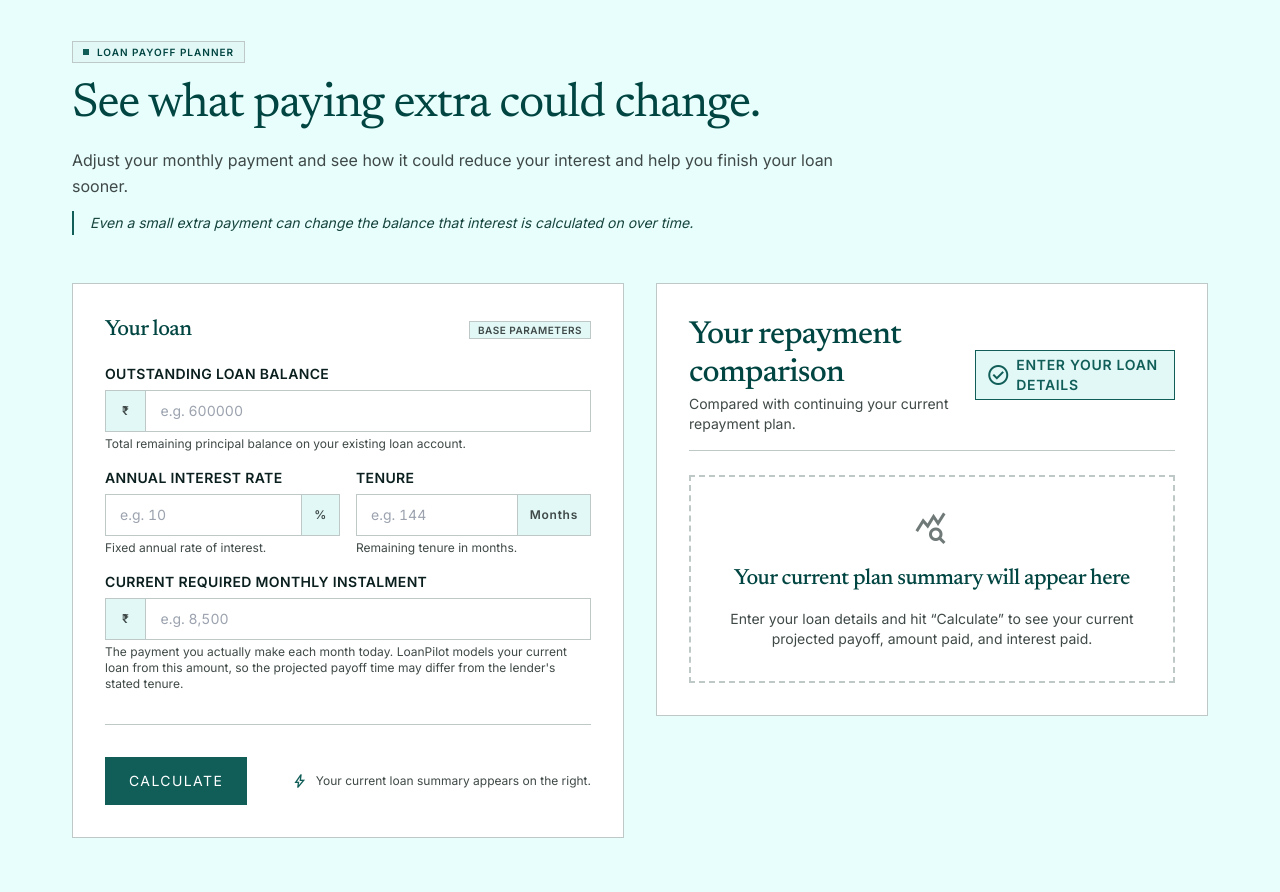
Scenario: Calculator two-stage flow › calculates the baseline first, then reveals an unstained planner
This screenshot has width=1280, height=892.
Type "8000" into the field labelled "Current required monthly instalment". click: (368, 619)
box: [146, 599, 590, 639]
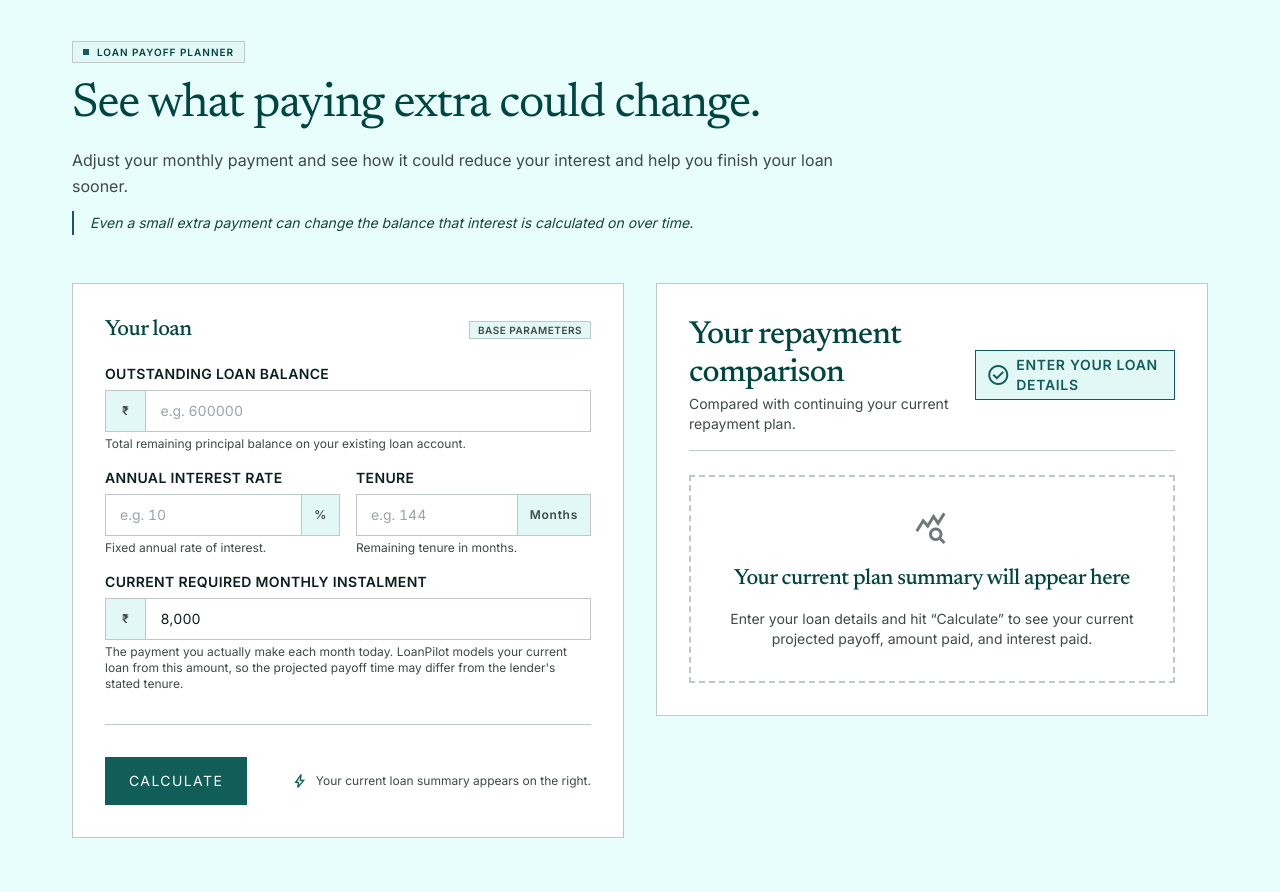
Type "600000" into the field labelled "Outstanding loan balance". click: (368, 411)
box: [146, 391, 590, 431]
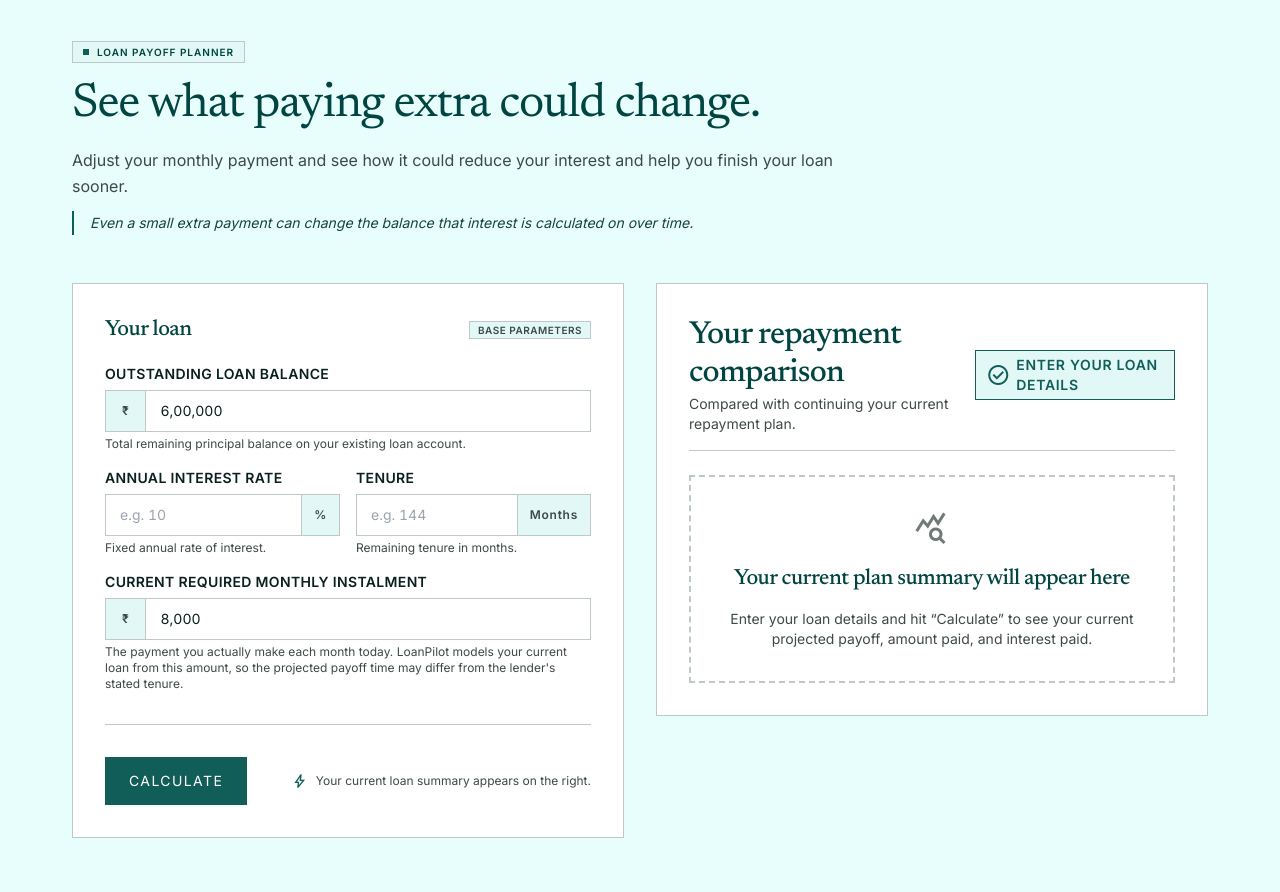
Type "8.5" into the field labelled "Annual interest rate". click: (204, 515)
box: [106, 495, 301, 535]
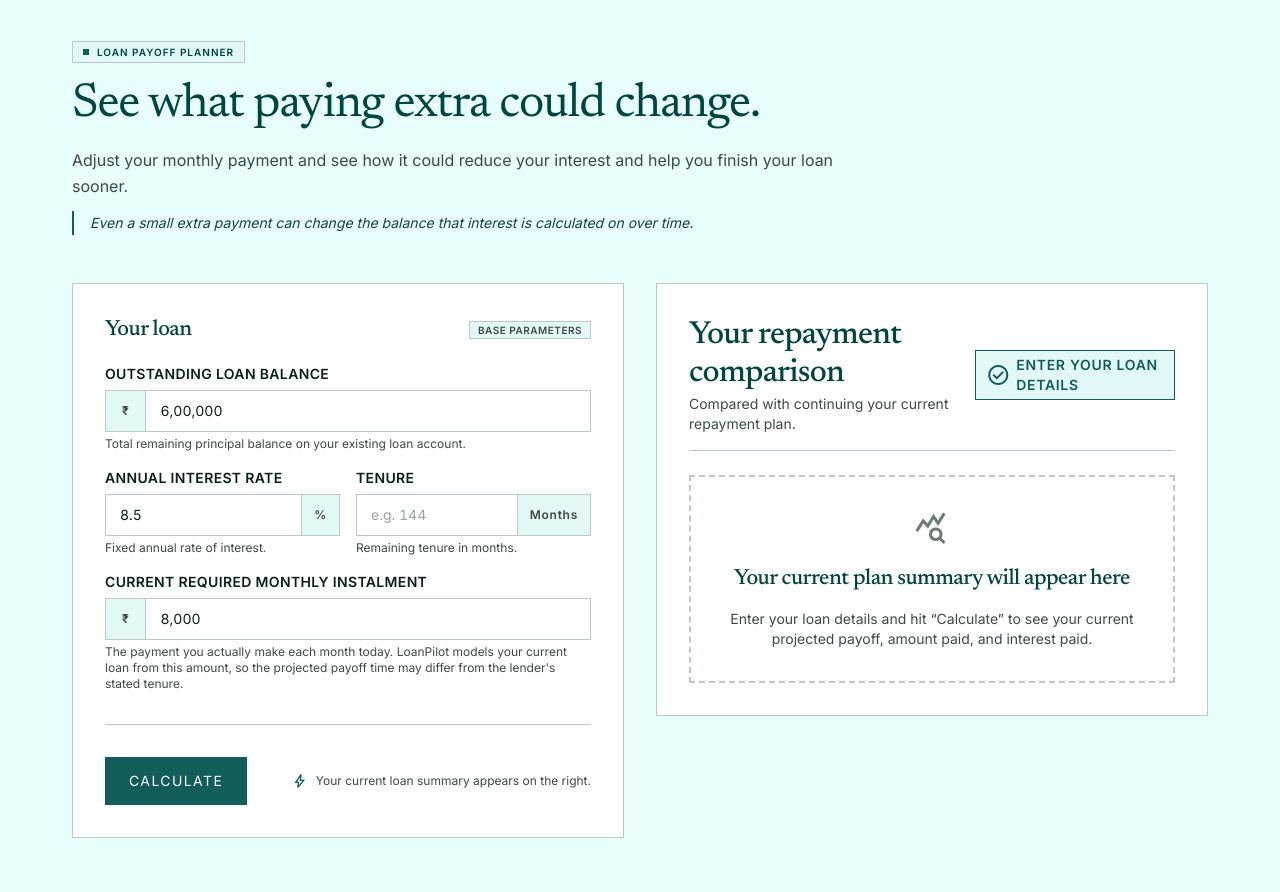
Type "180" into the field labelled "Tenure". click: (437, 515)
box: [357, 495, 517, 535]
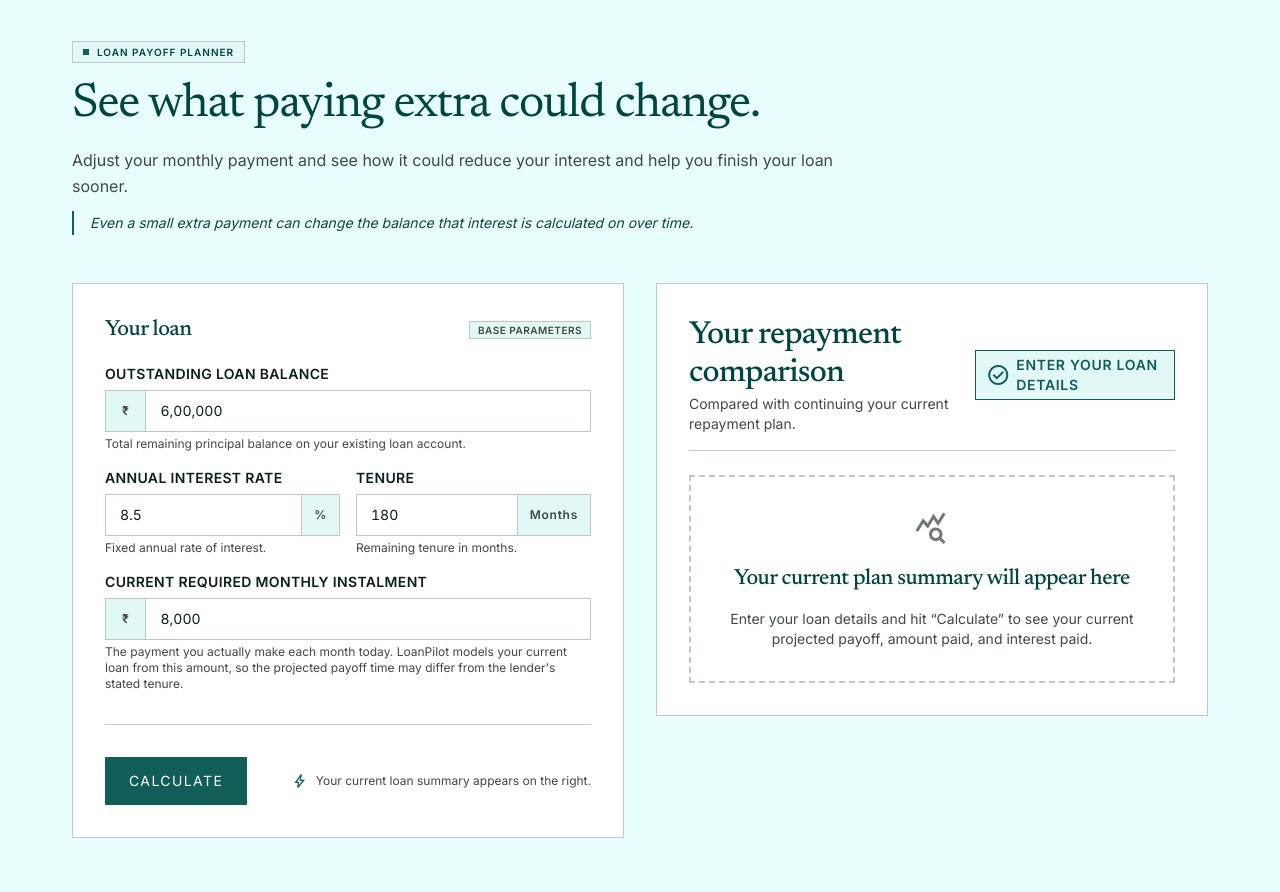
Click the button "Calculate". click: (176, 781)
box: [105, 757, 247, 805]
(page scrolled)
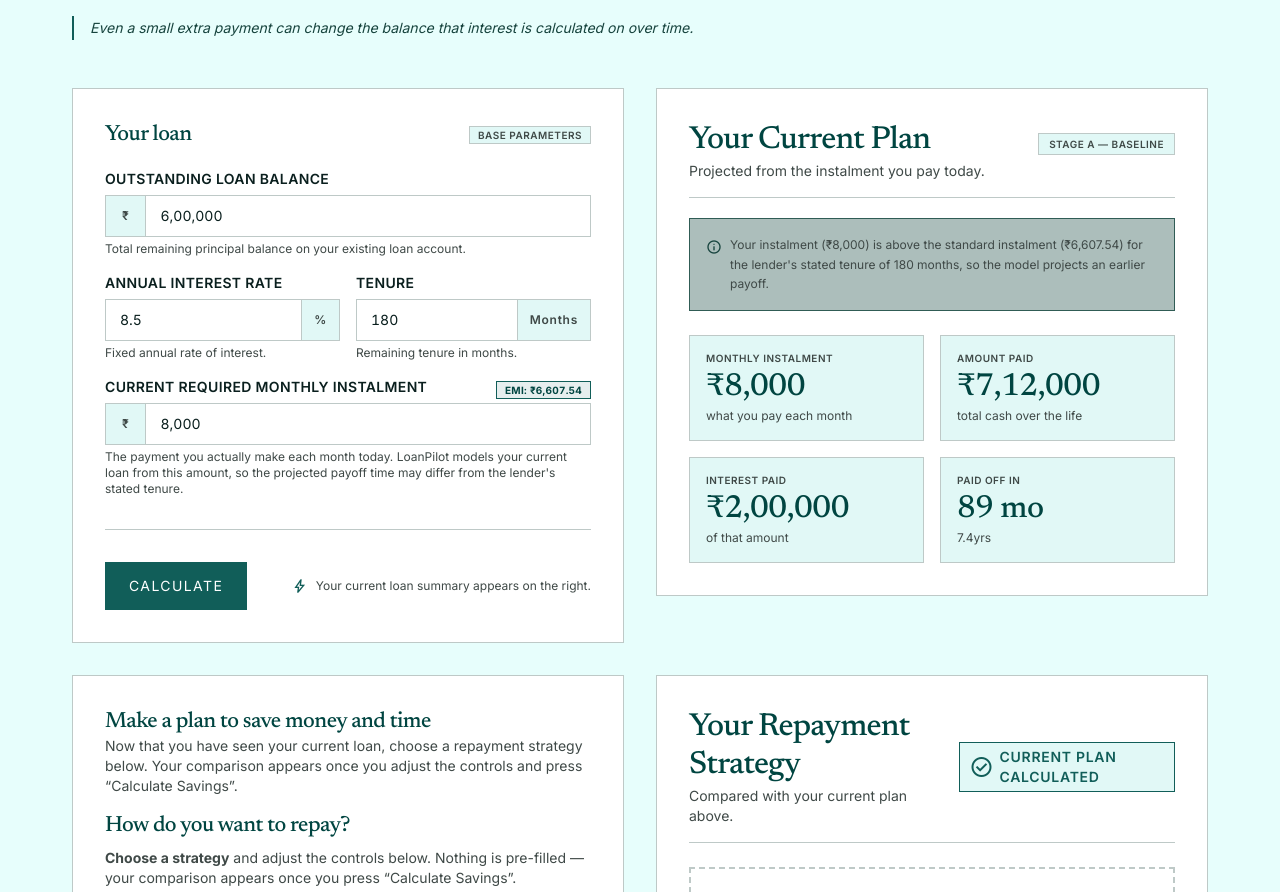
Expected: the heading "Your Current Plan" is shown, [689, 124, 930, 156]
Expected: the text "Stage A — Baseline" is shown, [1038, 133, 1175, 155]
Expected: the heading "Your Repayment Strategy" is shown, [689, 711, 909, 781]
